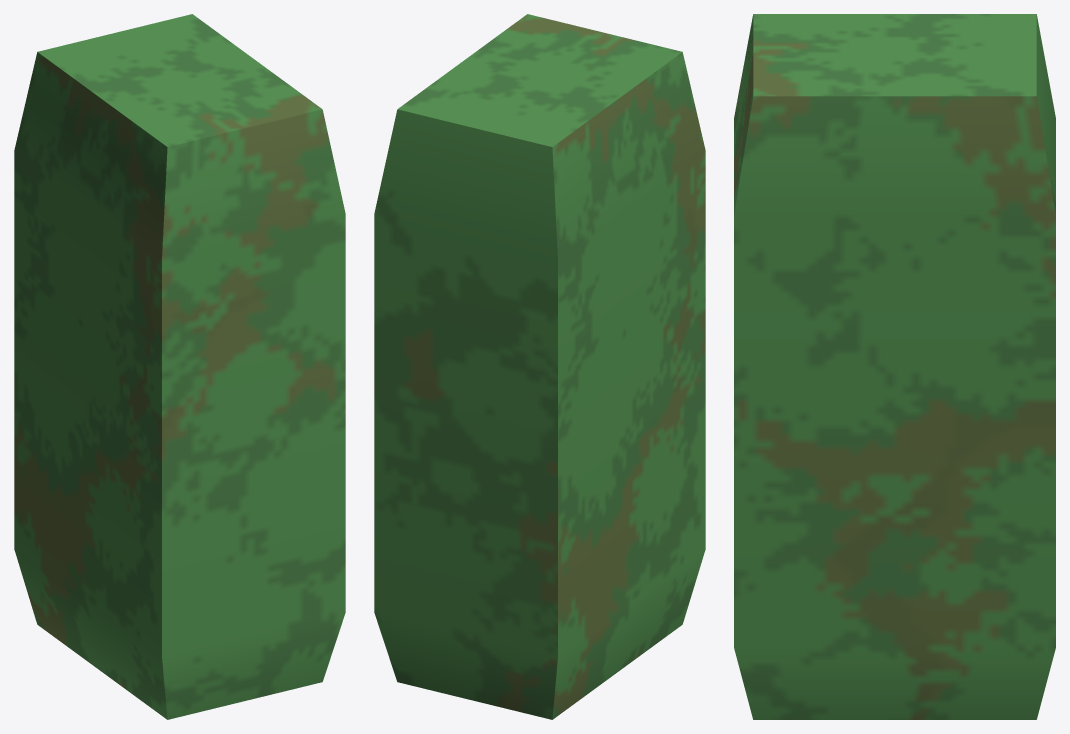
File: RockPieceA.fbx
3 renders of one model, left to right at view 1: azimuth 30°, elevation 25°; view 2: azimuth 150°, elevation 25°; view 3: azimuth 270°, elevation 25°, orthographic. The views are drawn at different scales.
Visible parts, largest first — view 1: RockPieceA; view 2: RockPieceA; view 3: RockPieceA.
Boxes of the visible parts, x1,y1,x2,y2 form: RockPieceA: [14, 14, 345, 719]; RockPieceA: [374, 14, 705, 719]; RockPieceA: [734, 14, 1055, 719].
Size of the model in its own units: 248 by 738 by 345.
